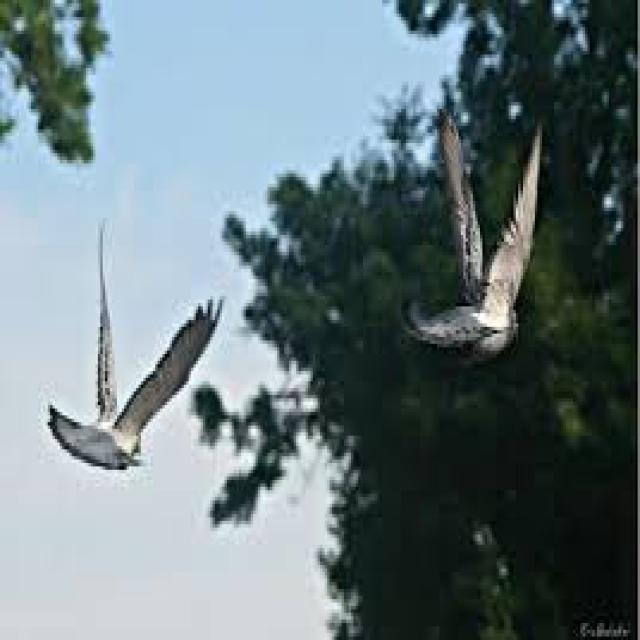pigeon: (40, 242, 220, 516), (405, 117, 546, 376)
